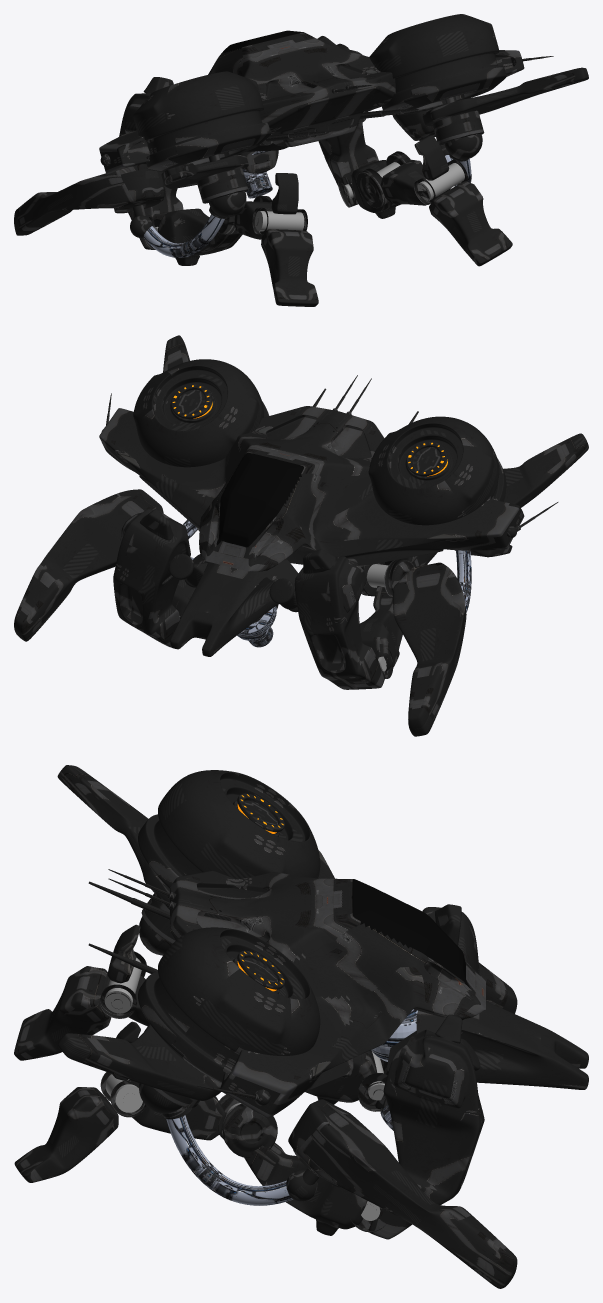
Rendered from blue.glb.
The picture shows the model from 3 angles, top to bottom: view 1: azimuth 30°, elevation 25°; view 2: azimuth 150°, elevation 25°; view 3: azimuth 270°, elevation 25°; orthographic projection. The views are drawn at different scales.
Visible parts, largest first — view 1: Cube.007, Cube.017, Cube.021, Cube.012, Cube.015, Cube.018, Cube.010, Cube.009, Cube.019, Cube.002, NurbsCurve.001, Cylinder.033 (+14 smaller); view 2: Cube.007, Cube.009, Cube.017, Cube.018, Cube.008, Cube.014, Cube.002, Cube.010, Cylinder.018, NurbsCurve.001, Cube.015; view 3: Cube.007, Cube.018, Cube.008, Cube.014, Cube.015, Cube.021, Cube.012, Cube.020, Cube.002, NurbsCurve, Cylinder.028, Cube.009 (+10 smaller).
Boxes of the visible parts, x1,y1,x2,y2 form: Cube.007: [99, 14, 524, 174]; Cube.017: [14, 164, 164, 235]; Cube.021: [429, 181, 512, 266]; Cube.012: [261, 229, 318, 306]; Cube.015: [422, 67, 588, 126]; Cube.018: [317, 36, 378, 204]; Cube.010: [158, 208, 242, 265]; Cube.009: [119, 77, 183, 249]; Cube.019: [380, 159, 450, 205]; Cube.002: [161, 154, 248, 188]; NurbsCurve.001: [143, 214, 224, 257]; Cylinder.033: [197, 154, 248, 203]; Cube.007: [99, 359, 524, 571]; Cube.009: [269, 549, 384, 689]; Cube.017: [392, 562, 466, 736]; Cube.018: [113, 509, 196, 647]; Cube.008: [14, 489, 163, 641]; Cube.014: [170, 554, 298, 656]; Cube.002: [503, 433, 588, 507]; Cube.010: [360, 586, 402, 670]; Cylinder.018: [361, 559, 414, 596]; NurbsCurve.001: [456, 550, 471, 612]; Cube.015: [163, 335, 189, 372]; Cube.007: [138, 770, 485, 1118]; Cube.018: [369, 1014, 484, 1239]; Cube.008: [288, 1099, 517, 1288]; Cube.014: [387, 1001, 588, 1089]; Cube.015: [57, 1024, 221, 1100]; Cube.021: [14, 1087, 118, 1182]; Cube.012: [14, 966, 111, 1060]; Cube.020: [244, 1143, 367, 1235]; Cube.002: [57, 765, 169, 909]; NurbsCurve: [166, 1115, 292, 1205]; Cylinder.028: [219, 1094, 277, 1158]; Cube.009: [375, 904, 479, 1108].
Size of the model in its own units: 3.22 by 1.56 by 2.62.
Materials: 7 (3 with a texture image).
